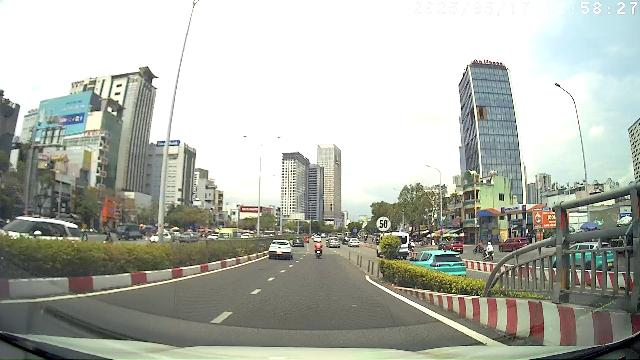134-het-han-che-toc-do-toi-da: (375, 216, 391, 232)
